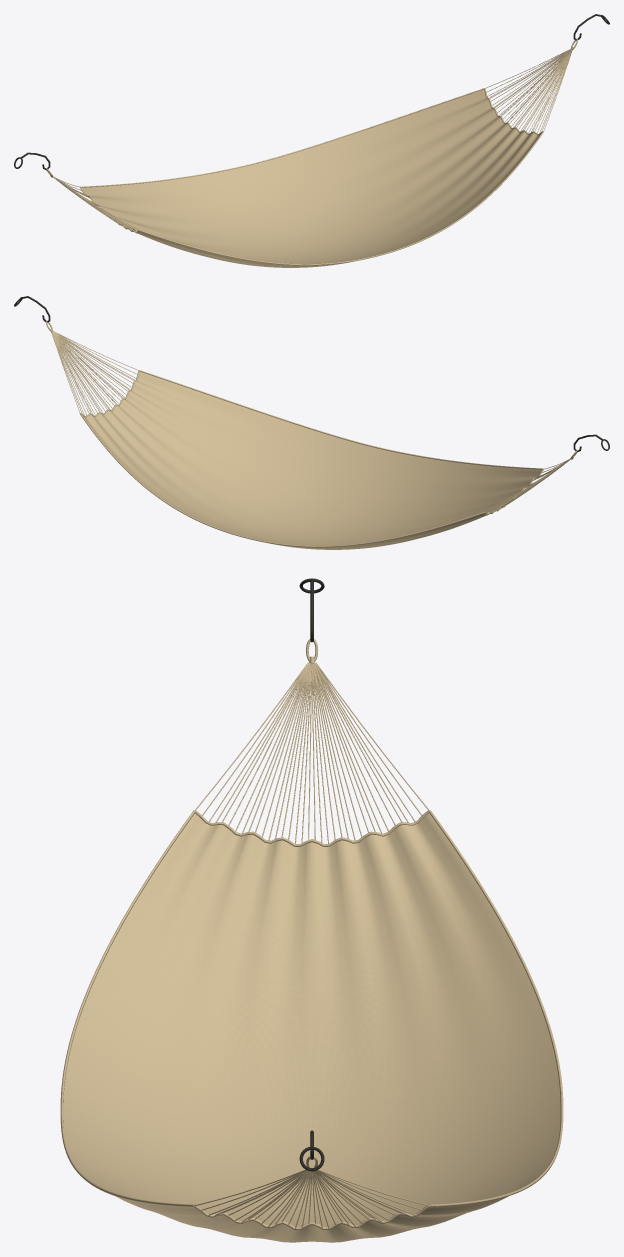
File: hammock-cloth.glb
3 views of the same model, one above another, from view 1: azimuth 30°, elevation 25°; view 2: azimuth 150°, elevation 25°; view 3: azimuth 270°, elevation 25° (orthographic). The views are drawn at different scales.
Parts seen in each view (by area): view 1: hammock_cloth; view 2: hammock_cloth; view 3: hammock_cloth.
Boxes of the visible parts, left/top/right/bottom form: hammock_cloth: left=46, top=39, right=577, bottom=267; hammock_cloth: left=46, top=321, right=577, bottom=549; hammock_cloth: left=60, top=639, right=563, bottom=1242.
Bounding box in the file's own units: 2.9 × 0.756 × 1.07.
Materials: 2 (1 with a texture image).
